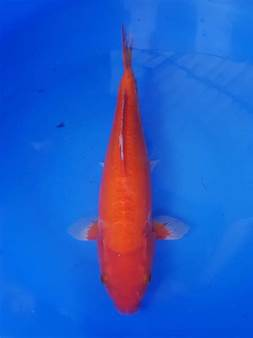red: (65, 23, 190, 315)
